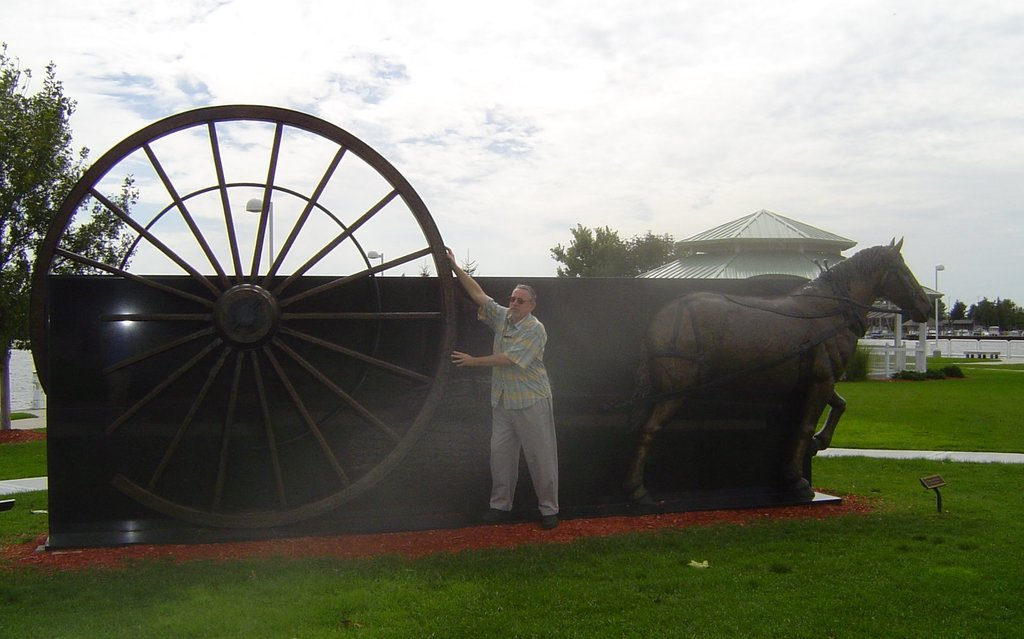Wheel: (29, 104, 460, 534)
